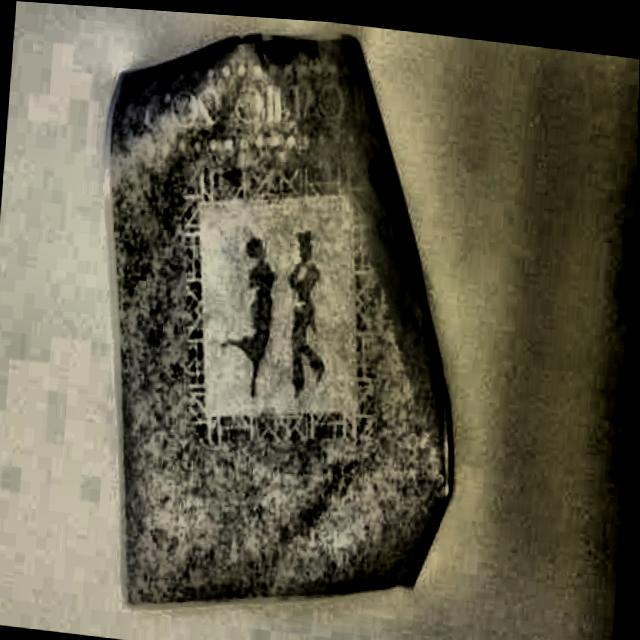Paper: (57, 4, 503, 640)
